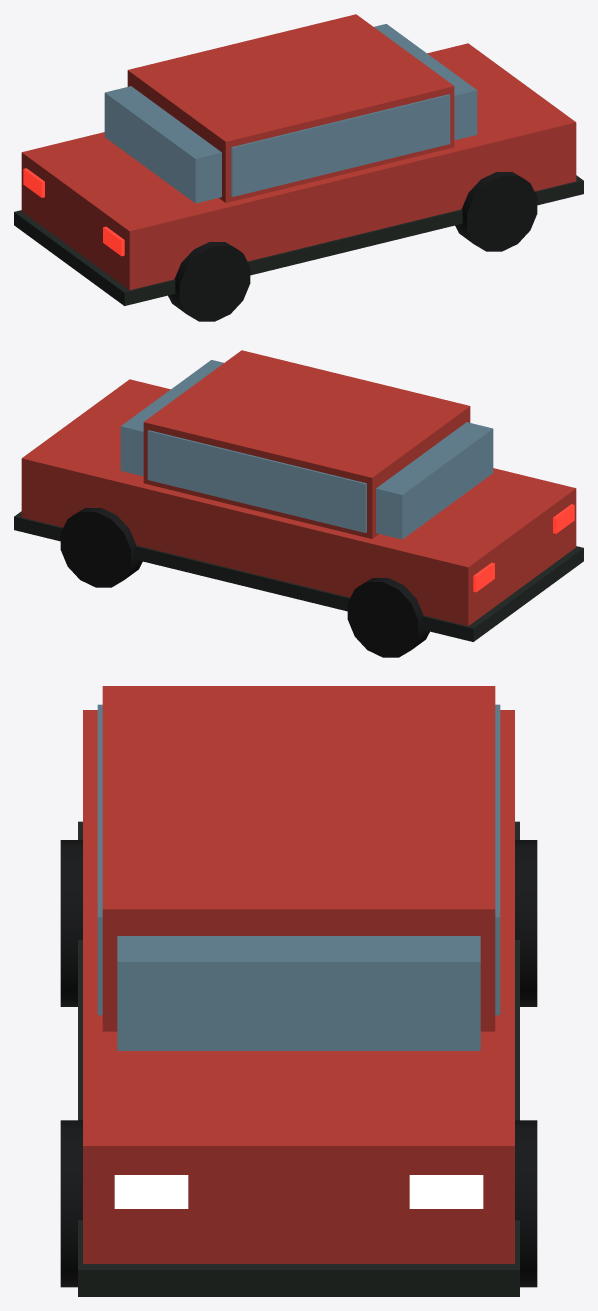
The model's file is car.glb.
3 views of the same model, one above another, from view 1: azimuth 30°, elevation 25°; view 2: azimuth 150°, elevation 25°; view 3: azimuth 270°, elevation 25° (orthographic). The views are drawn at different scales.
Visible parts, largest first — view 1: Car_CarPaint, Car_Windows, Car_Frame, Wheel_RL, Wheel_FL, Car_TailLight; view 2: Car_CarPaint, Car_Windows, Car_Frame, Wheel_RR, Wheel_FR, Car_TailLight; view 3: Car_CarPaint, Car_Windows, Car_Frame, Car_LampGlow, Wheel_FL, Wheel_FR, Wheel_RL, Wheel_RR.
Boxes of the visible parts, box(x1,y1,x2,y2) form: Car_CarPaint: box(21, 14, 576, 290); Car_Windows: box(104, 24, 477, 203); Car_Frame: box(14, 175, 583, 305); Wheel_RL: box(168, 242, 250, 321); Wheel_FL: box(455, 171, 537, 251); Car_TailLight: box(23, 168, 124, 256); Car_CarPaint: box(21, 350, 576, 626); Car_Windows: box(120, 360, 493, 539); Car_Frame: box(14, 511, 583, 641); Wheel_RR: box(347, 578, 429, 657); Wheel_FR: box(60, 507, 142, 587); Car_TailLight: box(473, 504, 574, 592); Car_CarPaint: box(83, 686, 514, 1263); Car_Windows: box(97, 704, 500, 1050); Car_Frame: box(78, 821, 519, 1296); Car_LampGlow: box(114, 1175, 483, 1208); Wheel_FL: box(60, 1120, 82, 1287); Wheel_FR: box(515, 1120, 537, 1287); Wheel_RL: box(60, 840, 82, 1006); Wheel_RR: box(515, 840, 537, 1006).
Bounding box in the file's own units: 4.32 × 1.5 × 1.94.
